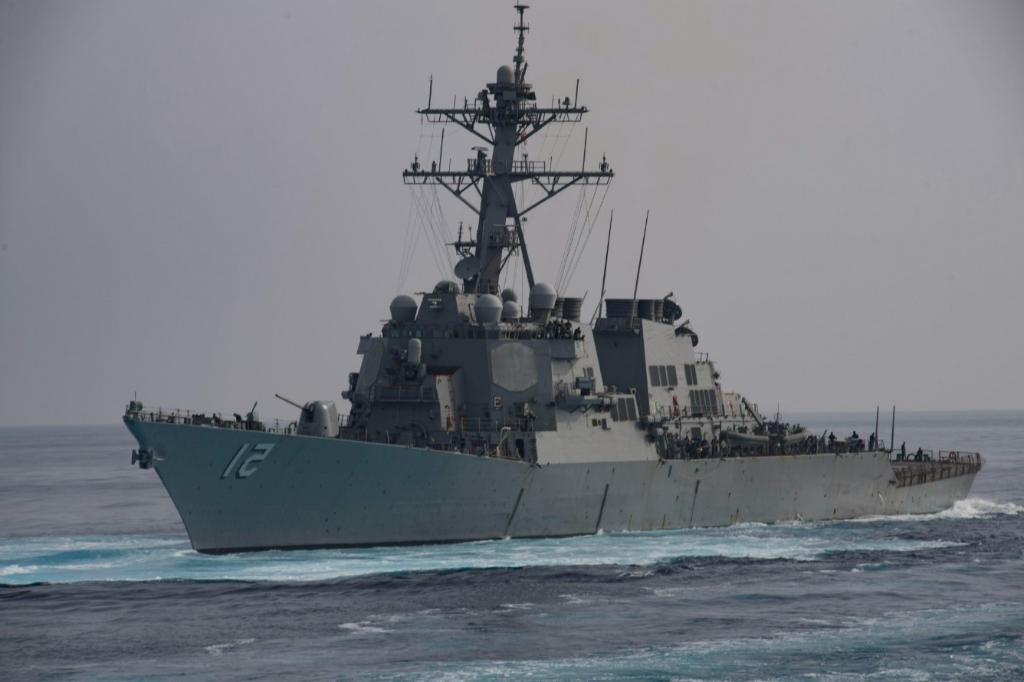Warship: (102, 0, 992, 570)
